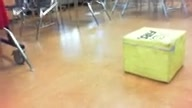cube: (122, 26, 187, 85)
